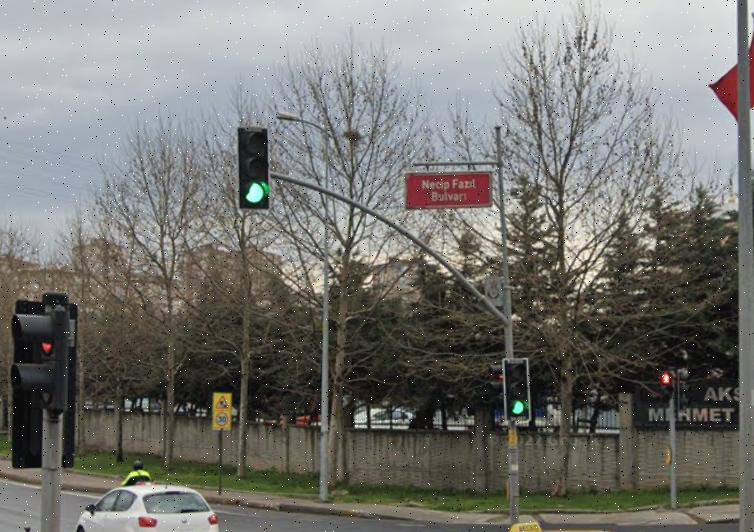greenlight: (238, 127, 272, 210), (505, 359, 528, 418)
